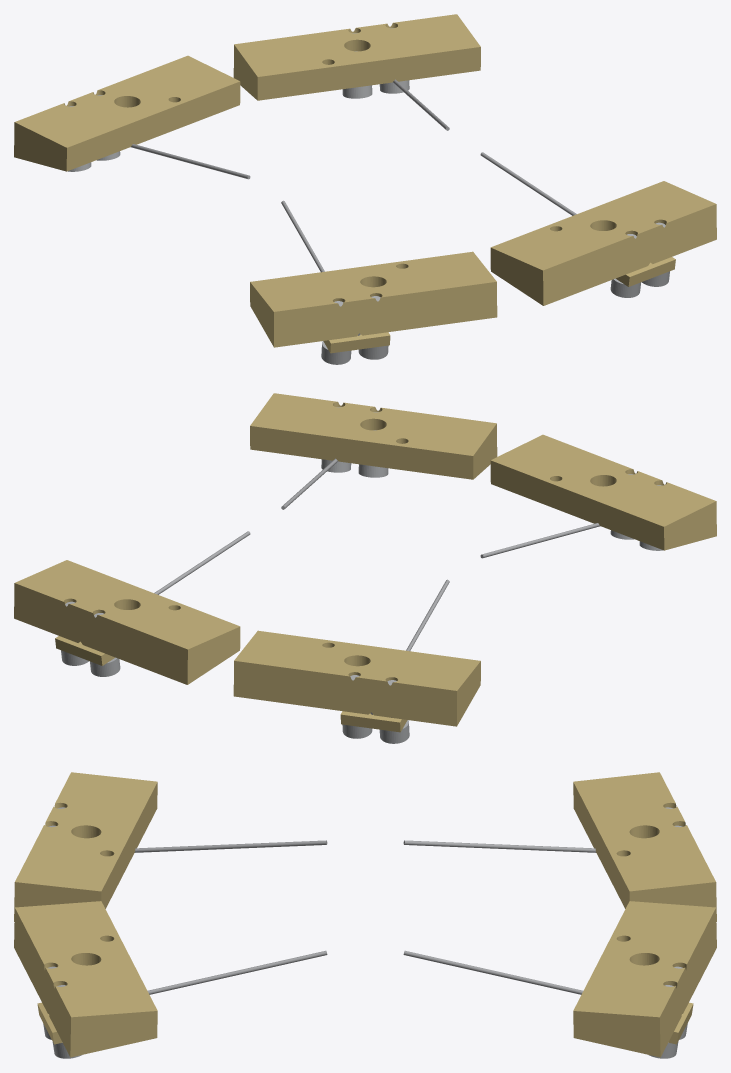
Rendered from v8_swing.glb.
3 views of the same model, one above another, from view 1: azimuth 30°, elevation 25°; view 2: azimuth 150°, elevation 25°; view 3: azimuth 270°, elevation 25° (orthographic). The views are drawn at different scales.
Visible parts, largest first — view 1: s010, s000, s005, s015, s012, s002, s016; view 2: s015, s005, s000, s010, s017, s007, s011; view 3: s000, s005, s010, s015, s011, s016, s001, s006.
Boxes of the visible parts, x1,y1,x2,y2 form: s010: [250, 251, 497, 347]; s000: [490, 181, 716, 305]; s005: [233, 14, 480, 100]; s015: [14, 55, 240, 171]; s012: [323, 332, 390, 353]; s002: [616, 257, 675, 286]; s016: [130, 144, 250, 179]; s015: [233, 630, 480, 726]; s005: [14, 560, 240, 684]; s000: [250, 393, 497, 479]; s010: [490, 434, 716, 550]; s017: [340, 711, 407, 732]; s007: [55, 636, 114, 665]; s011: [480, 523, 600, 558]; s000: [14, 901, 157, 1057]; s005: [573, 901, 716, 1057]; s010: [14, 772, 157, 921]; s015: [573, 772, 716, 921]; s011: [134, 840, 327, 852]; s016: [403, 840, 596, 852]; s001: [147, 950, 327, 994]; s006: [403, 950, 583, 994].
Bounding box in the file's own units: 65.48 × 8.74 × 79.31.
